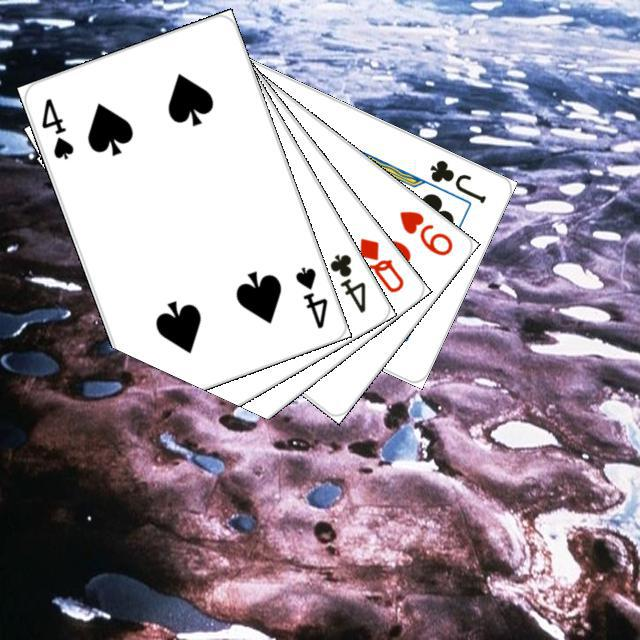4c: (324, 248, 368, 315)
4s: (290, 261, 330, 331), (36, 93, 76, 162)
9h: (394, 205, 455, 258)
Jc: (424, 155, 488, 205)
Qd: (354, 232, 406, 295)
